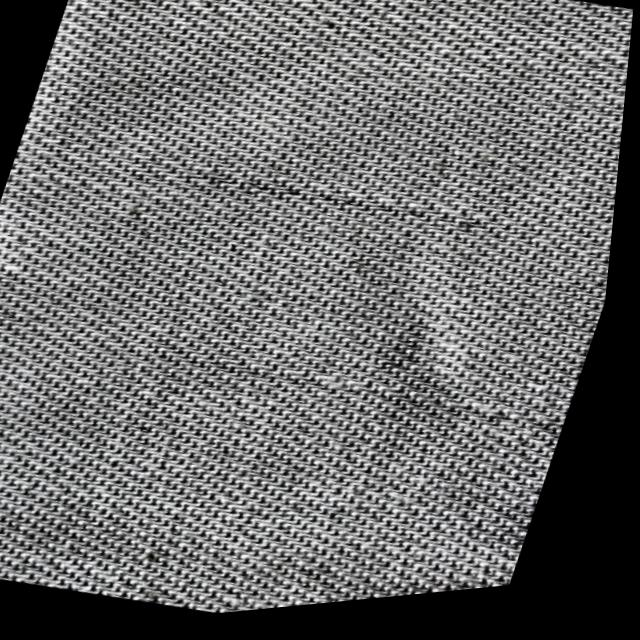Hole: (261, 190, 271, 195), (295, 196, 304, 201), (387, 215, 394, 220), (330, 203, 336, 206)
